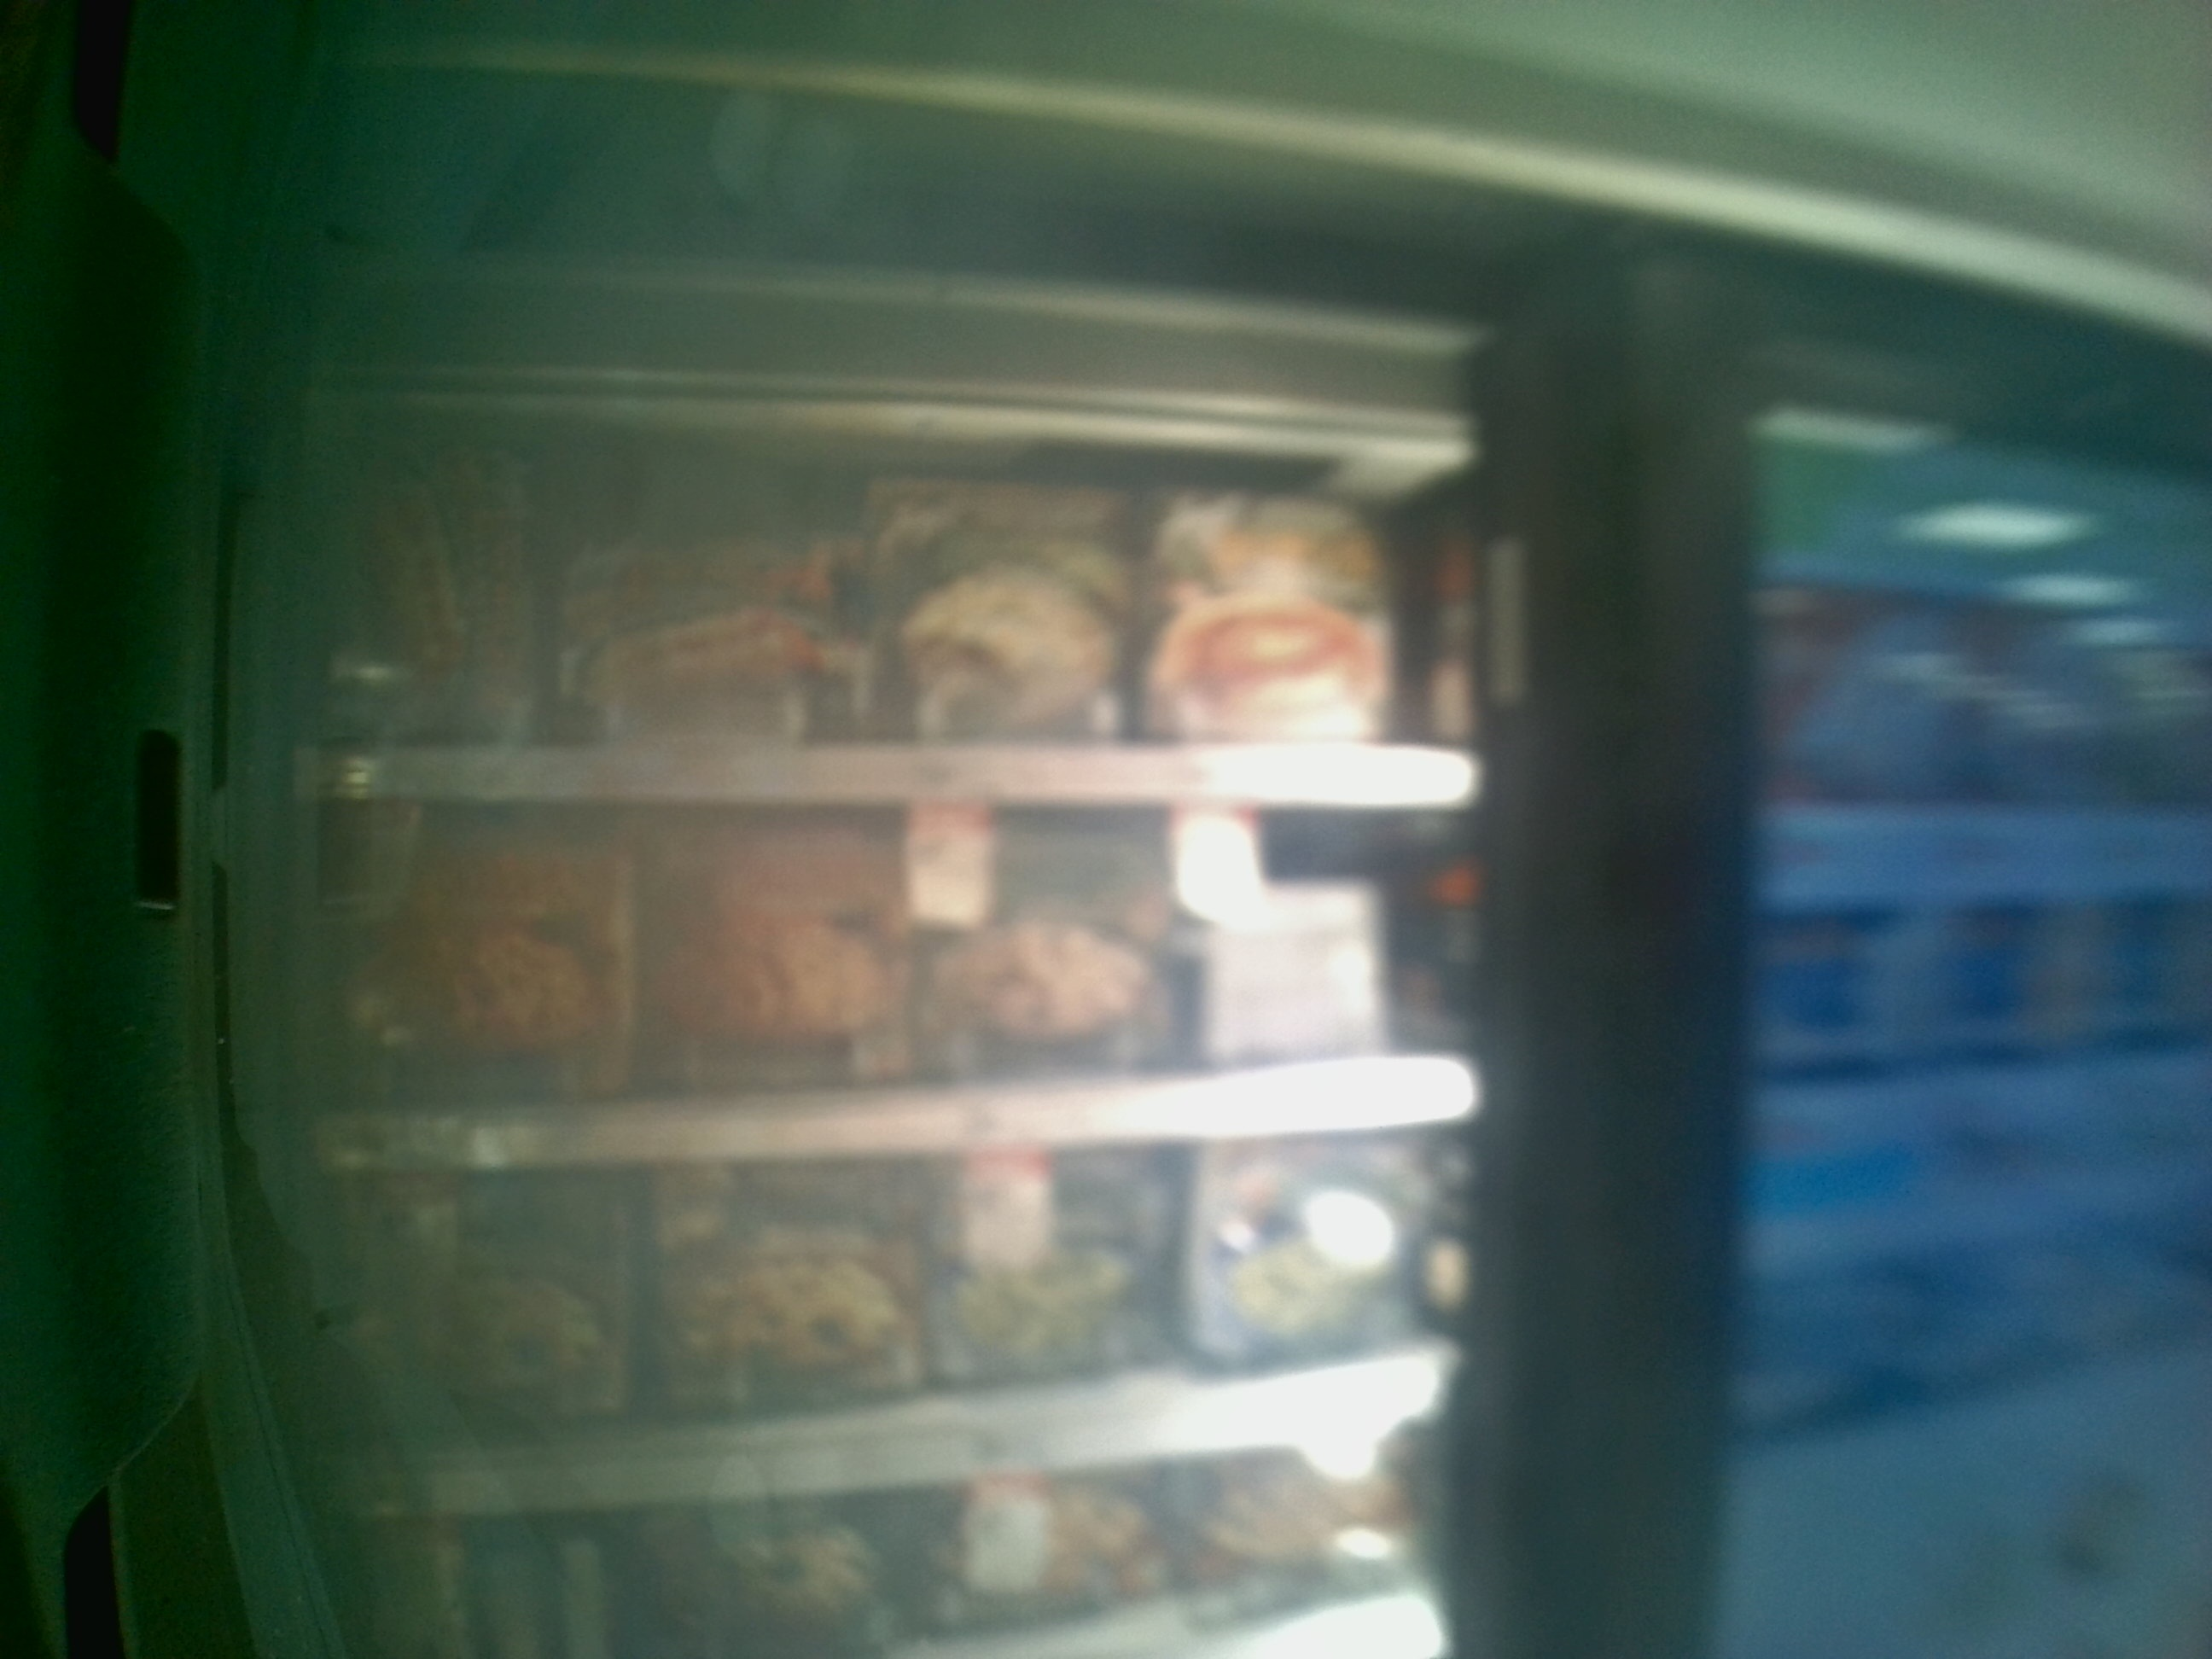frozen-food-shelf: (298, 430, 1484, 812), (298, 812, 1526, 1173), (298, 1178, 1538, 1525)
